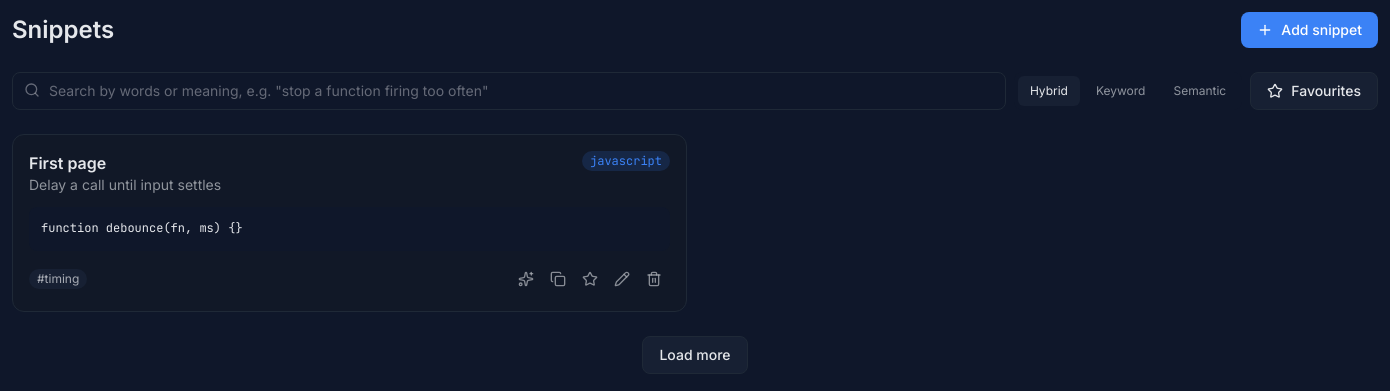
it: SnippetsPage › loads the next page with the cursor
Click the button "Load more" at (695, 354), box [642, 336, 748, 374]
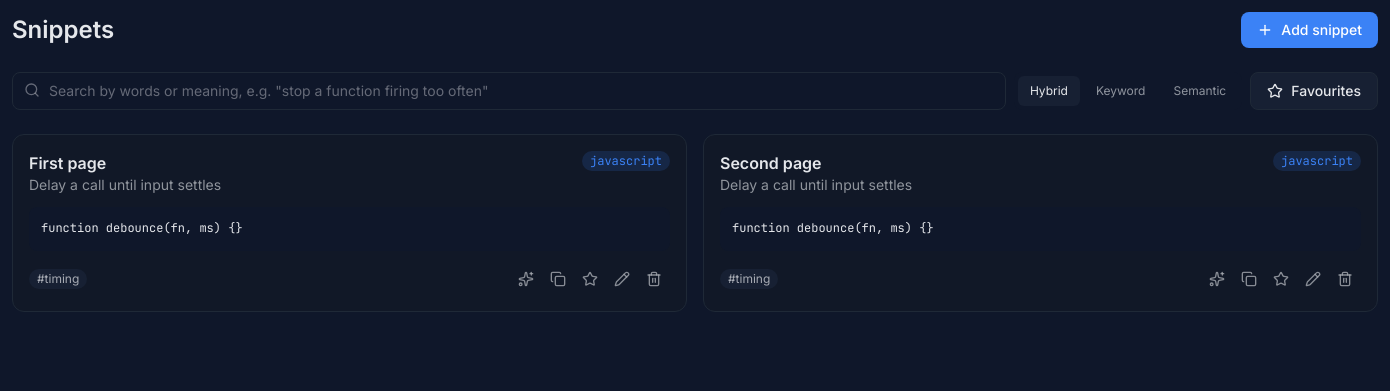
Expected: the element "First page" is shown, [12, 134, 687, 312]
Expected: the element "Second page" is shown, [703, 134, 1378, 312]
Expected: the button "Load more" is gone
